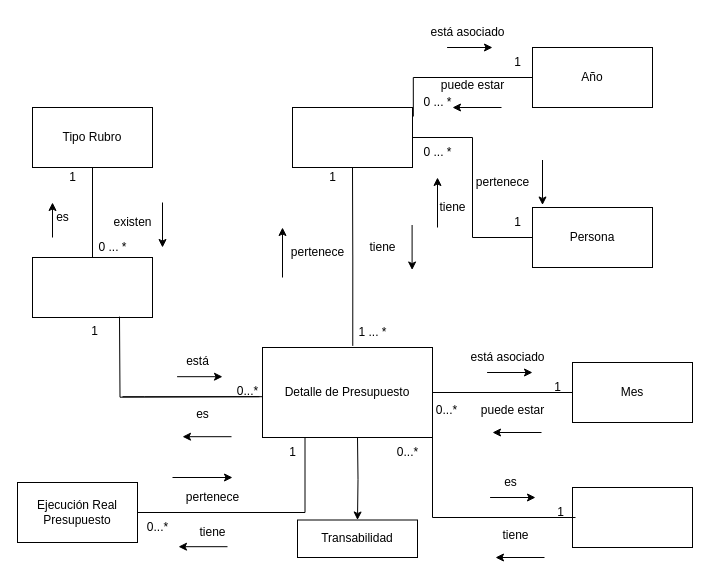
Some shapes in this 710 by 583 pixel diagram are drawn without their labels. Each missing label, with the centre of its shape:
"Presupuesto" belongs at point 352,137.
"Rubro" belongs at point 92,287.
"Tipo Detalle Presupuesto" belongs at point 632,517.
